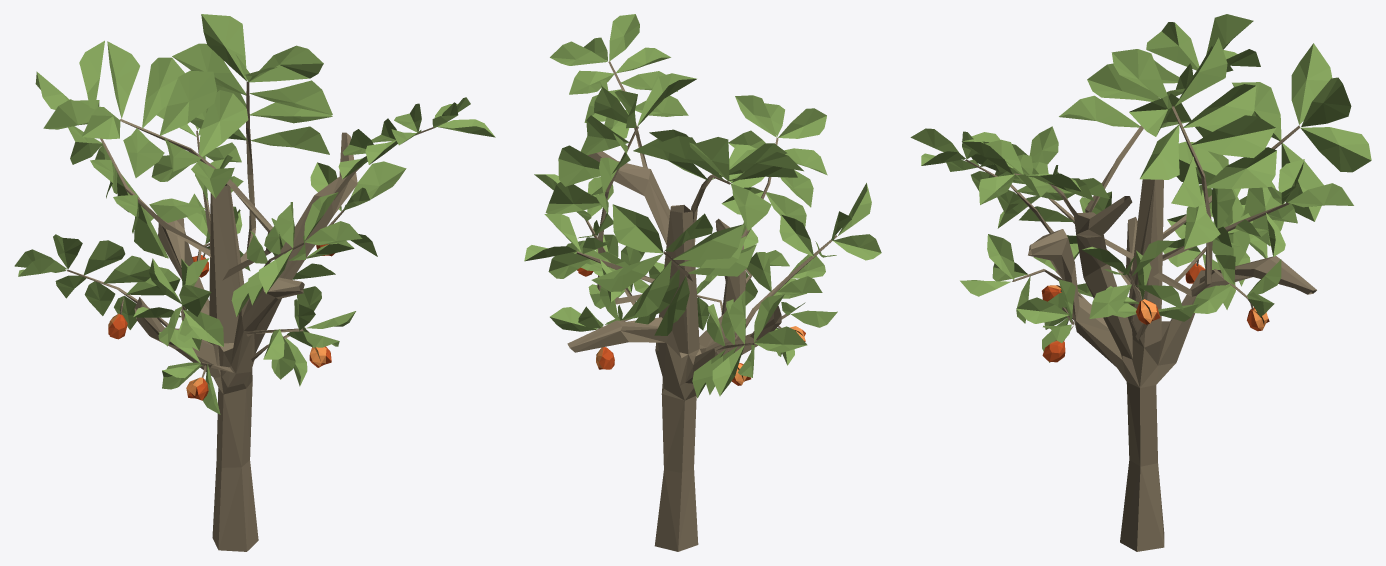
File: Peach_4_2.fbx
The picture shows the model from 3 angles, left to right: view 1: azimuth 30°, elevation 25°; view 2: azimuth 150°, elevation 25°; view 3: azimuth 270°, elevation 25°; orthographic projection. The views are drawn at different scales.
Visible parts, largest first — view 1: Peach_4_2; view 2: Peach_4_2; view 3: Peach_4_2.
Boxes of the visible parts, x1,y1,x2,y2 form: Peach_4_2: (14,14,495,551); Peach_4_2: (524,14,881,551); Peach_4_2: (910,14,1371,551).
Bounding box in the file's own units: 402 × 530 × 437.
